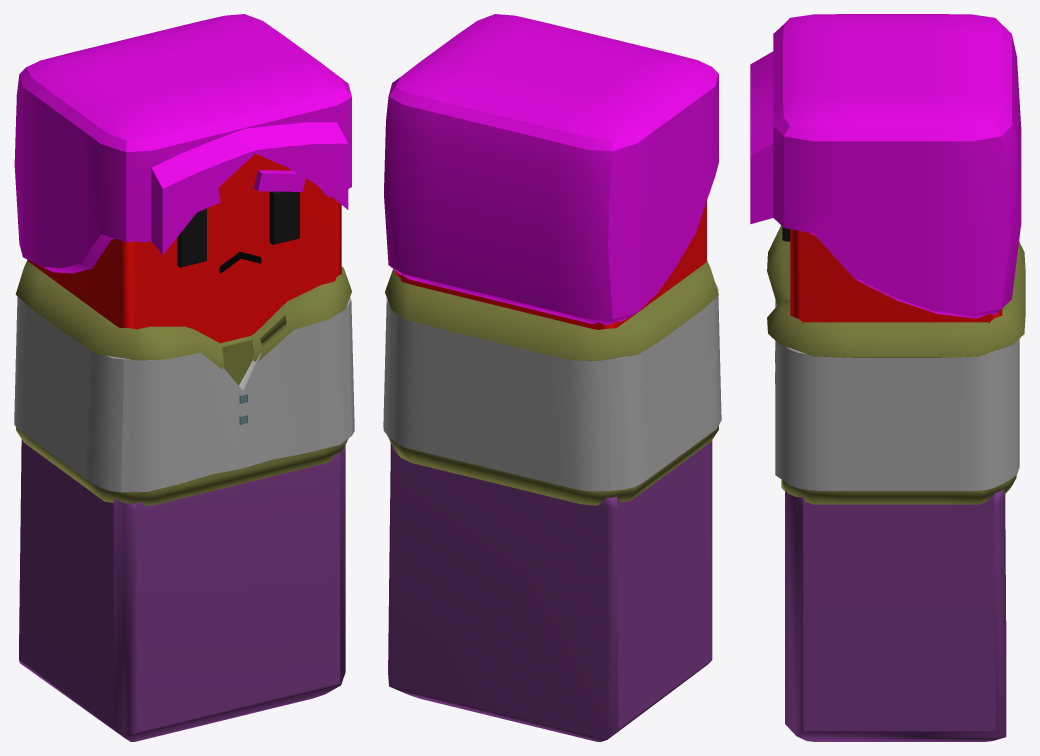
File: Office Level Worry NPC.fbx
3 views of the same model, side by side, from view 1: azimuth 30°, elevation 25°; view 2: azimuth 150°, elevation 25°; view 3: azimuth 270°, elevation 25° (orthographic). The views are drawn at different scales.
Parts seen in each view (by area): view 1: Eyebrow4; view 2: Eyebrow4; view 3: Eyebrow4.
Boxes of the visible parts, bbox=[...] form: Eyebrow4: bbox=[14, 14, 354, 741]; Eyebrow4: bbox=[383, 14, 721, 741]; Eyebrow4: bbox=[750, 14, 1025, 741].
Size of the model in its own units: 96.45 by 220 by 86.59.
